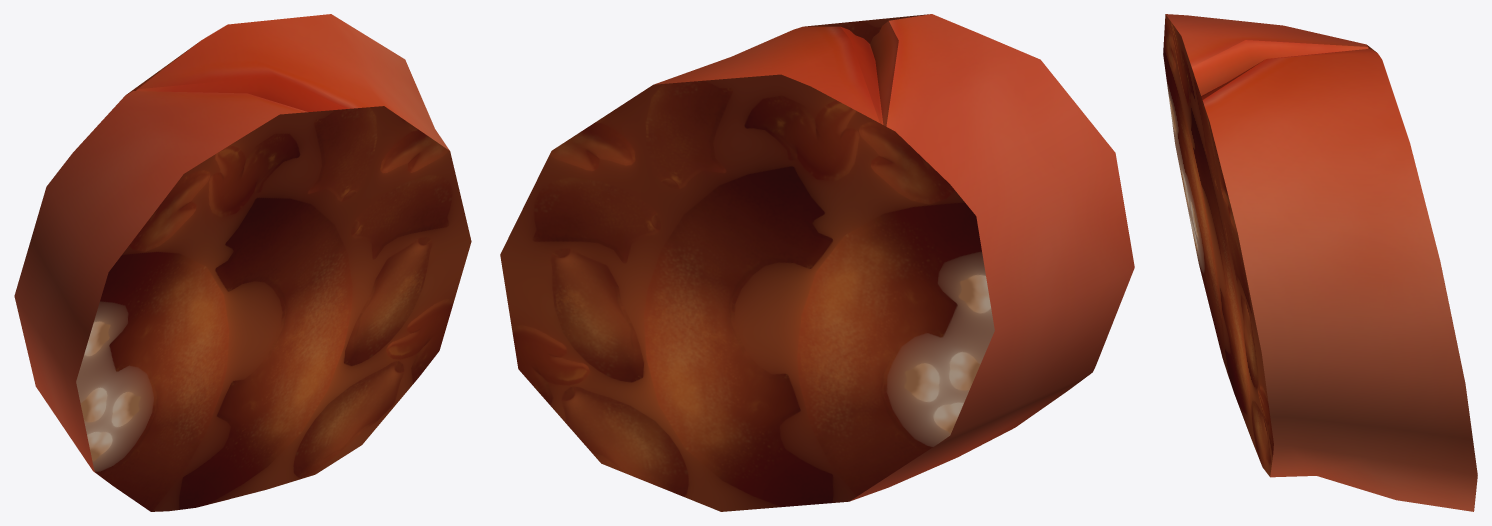
The model's file is Sausage09.fbx.
The picture shows the model from 3 angles, left to right: view 1: azimuth 30°, elevation 25°; view 2: azimuth 150°, elevation 25°; view 3: azimuth 270°, elevation 25°; orthographic projection. The views are drawn at different scales.
Visible parts, largest first — view 1: Sausage09; view 2: Sausage09; view 3: Sausage09.
Part boxes in pixels (left/top/right/bottom): Sausage09: left=14, top=14, right=471, bottom=511; Sausage09: left=500, top=14, right=1134, bottom=511; Sausage09: left=1163, top=14, right=1477, bottom=511.
Size of the model in its own units: 0.1477 by 0.12 by 0.0825.
